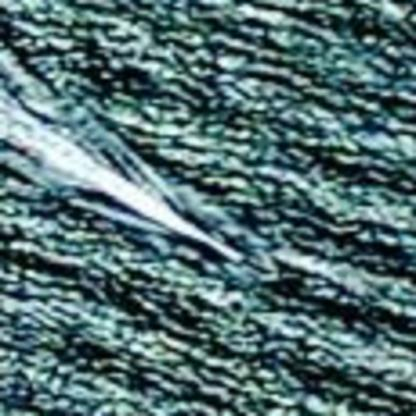ship: (195, 214, 293, 315)
